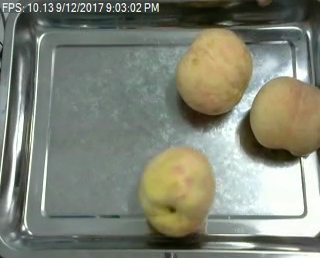Peach: (139, 146, 214, 238), (177, 26, 253, 116), (249, 75, 320, 156)
